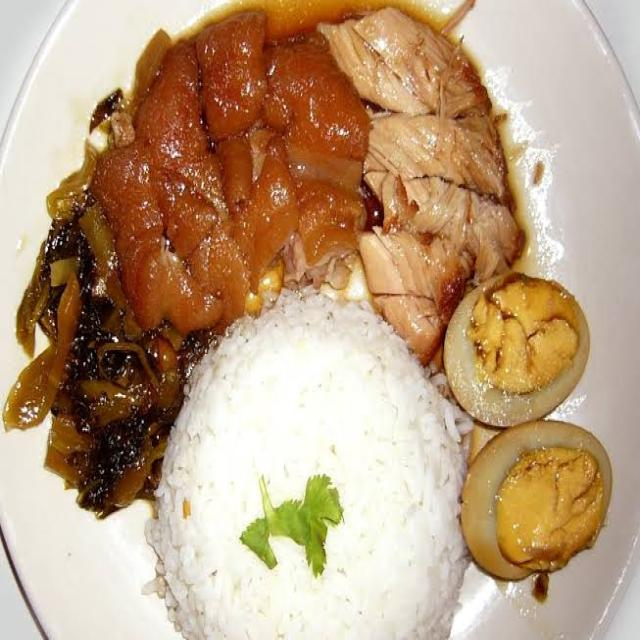carb: (158, 321, 478, 640)
meat: (33, 40, 541, 344)
stewed pork leg on rice: (11, 27, 540, 640)
